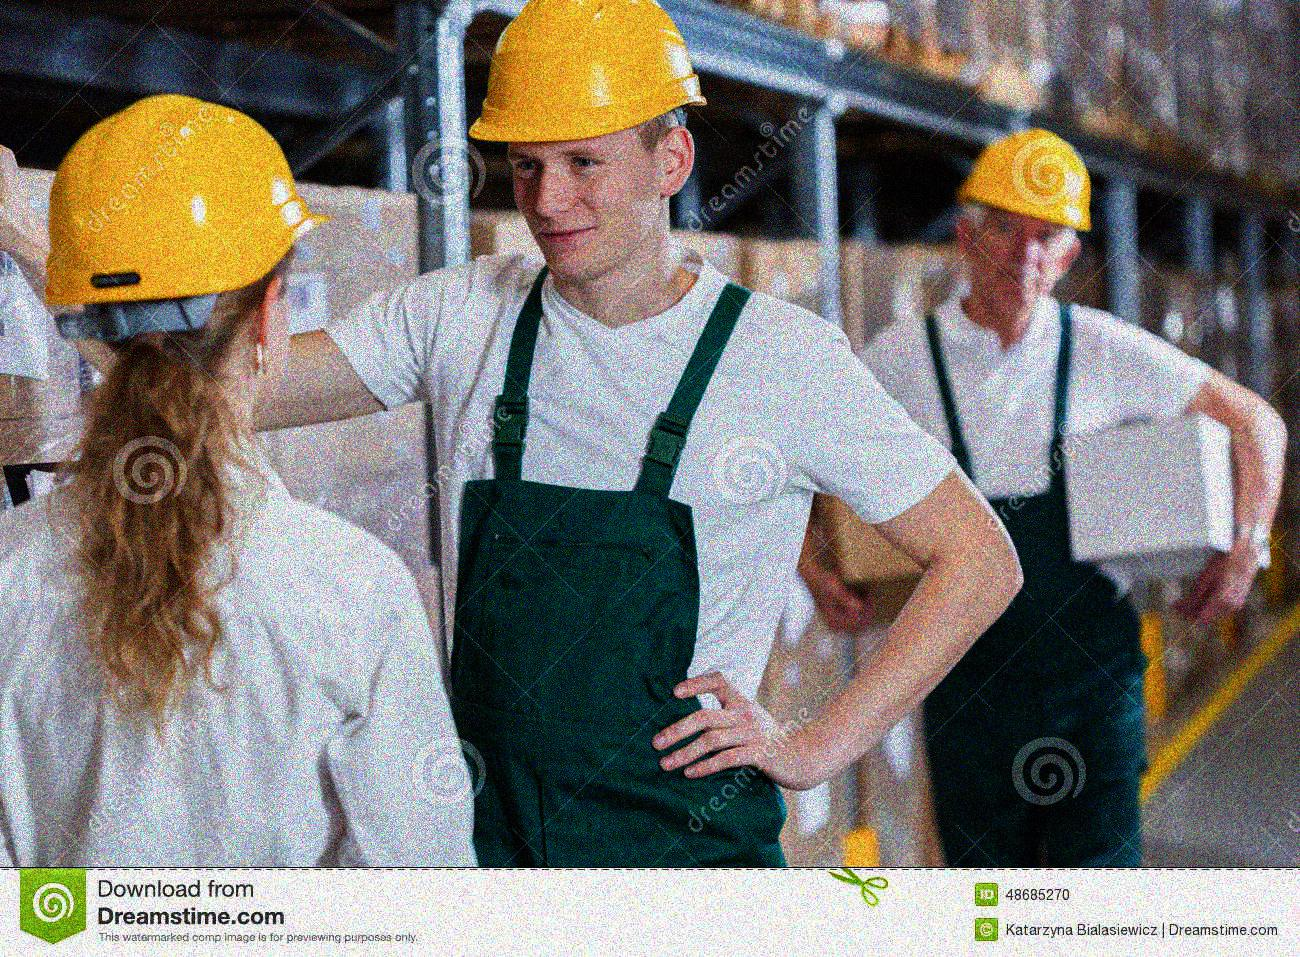helmet: (37, 88, 327, 434), (471, 1, 709, 282), (958, 127, 1093, 317)
